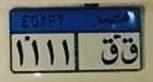1: (44, 37, 56, 68), (60, 38, 72, 67), (14, 39, 25, 67), (31, 39, 41, 68)
qaaf: (99, 38, 118, 67), (120, 38, 139, 65)
